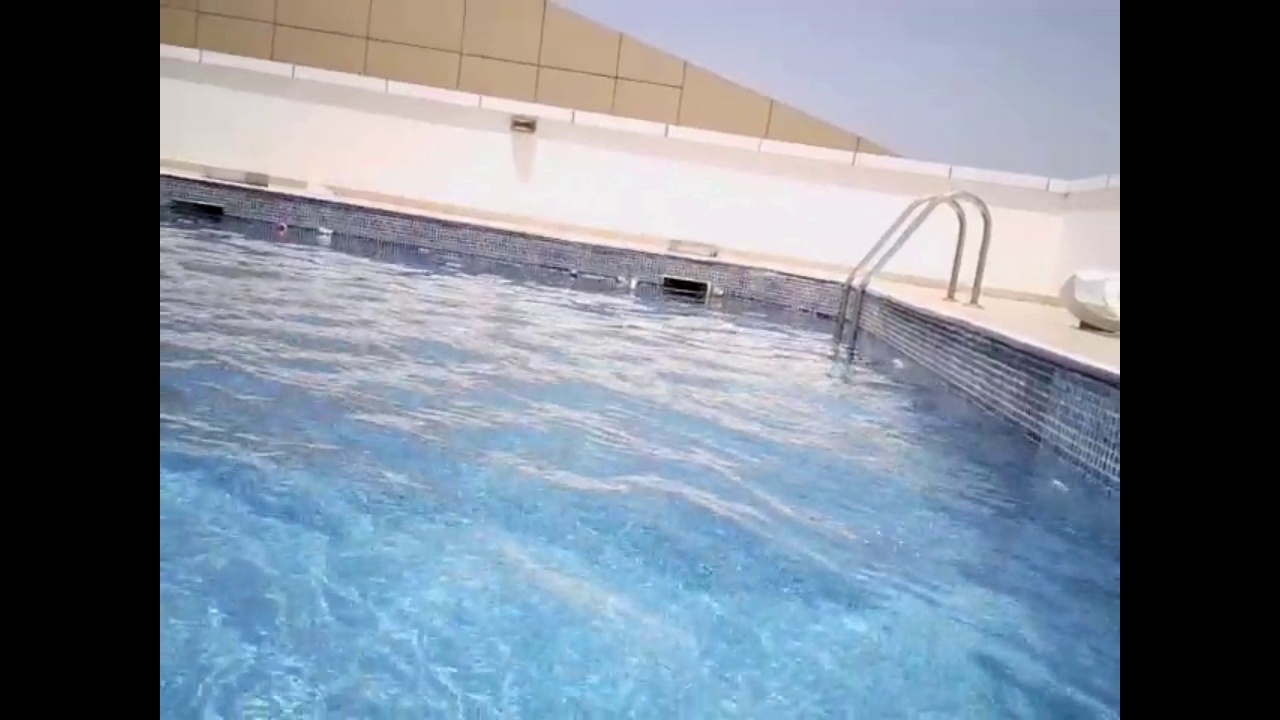debris: (609, 267, 639, 291), (311, 220, 340, 243), (624, 270, 644, 296), (564, 264, 582, 284), (272, 216, 288, 235), (709, 282, 726, 299)
